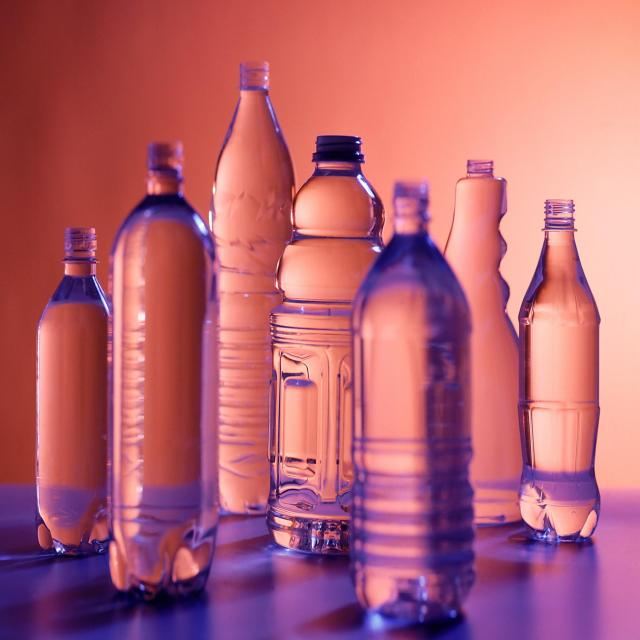plastic_bottle: (360, 178, 477, 617), (118, 143, 213, 595), (276, 126, 370, 555), (433, 154, 531, 514), (208, 51, 282, 513), (522, 188, 603, 546), (37, 221, 113, 553)
